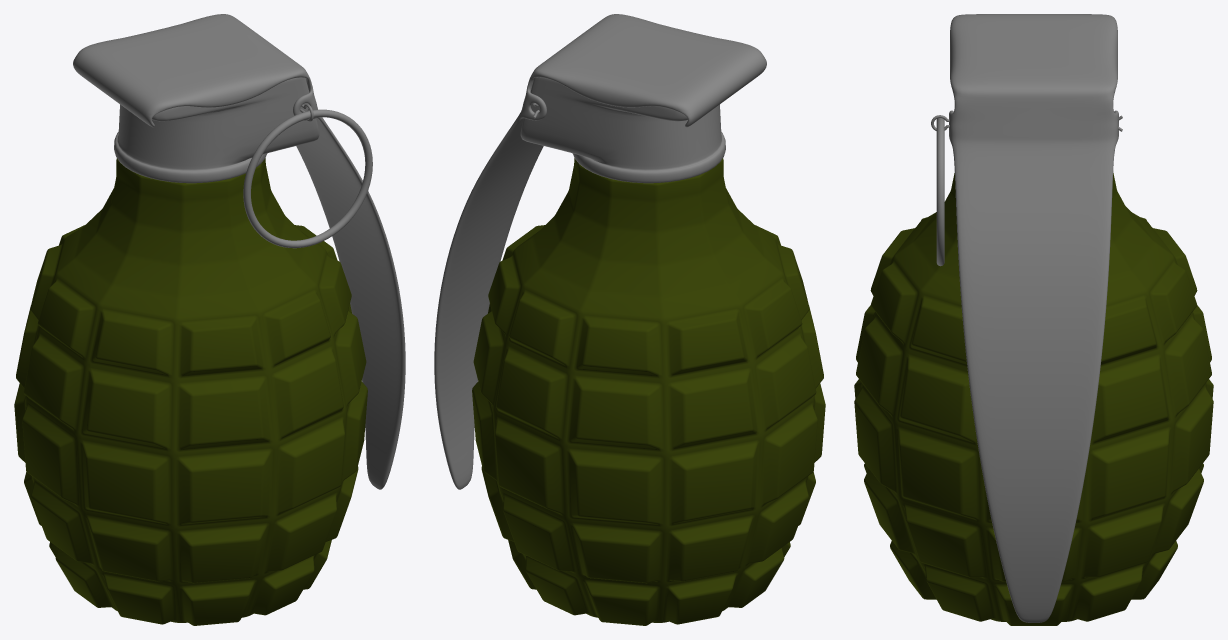
Rendered from Grenade.fbx.
The picture shows the model from 3 angles, left to right: view 1: azimuth 30°, elevation 25°; view 2: azimuth 150°, elevation 25°; view 3: azimuth 270°, elevation 25°; orthographic projection.
Parts seen in each view (by area): view 1: Grenade001; view 2: Grenade001; view 3: Grenade001.
Part boxes in pixels (x1=…): Grenade001: x1=14, y1=14, x2=405, y2=625; Grenade001: x1=434, y1=14, x2=825, y2=625; Grenade001: x1=854, y1=14, x2=1213, y2=625.
Bounding box in the file's own units: 7.64 × 11.05 × 6.78.
